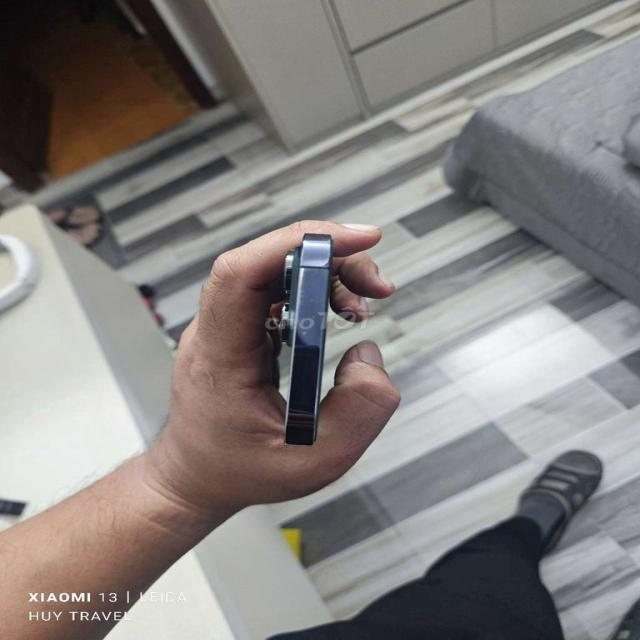scratch: (273, 262, 301, 428), (318, 250, 336, 280)
